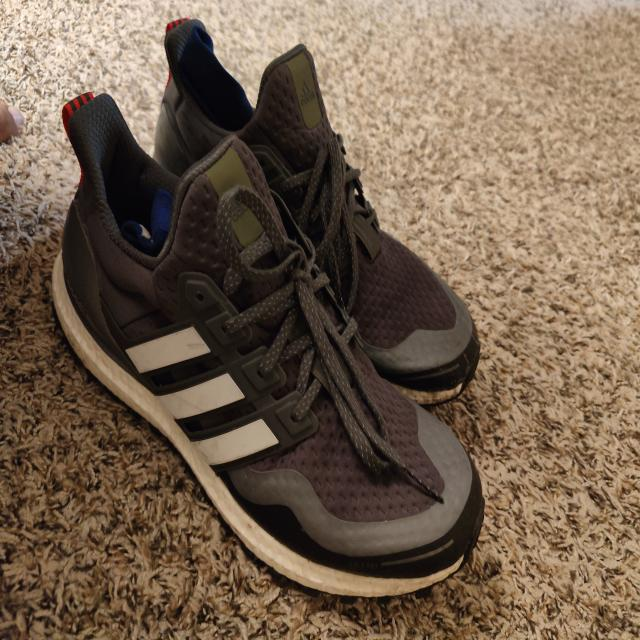black shoes: (66, 22, 480, 596)
